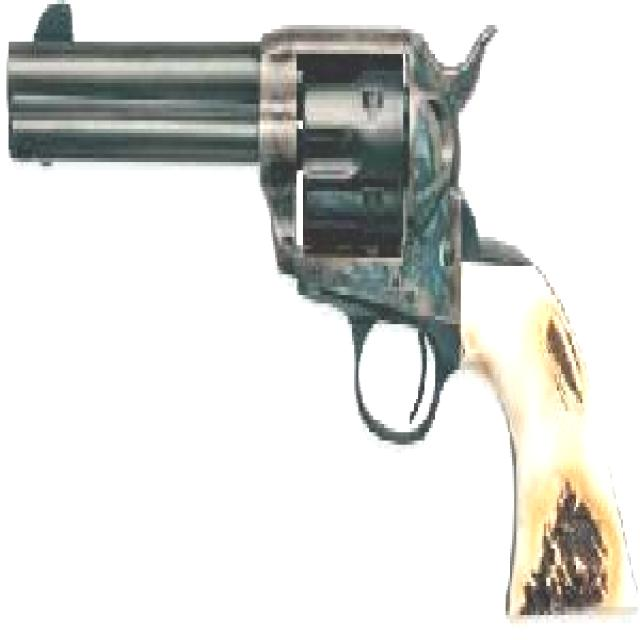pistol: (9, 0, 640, 615)
